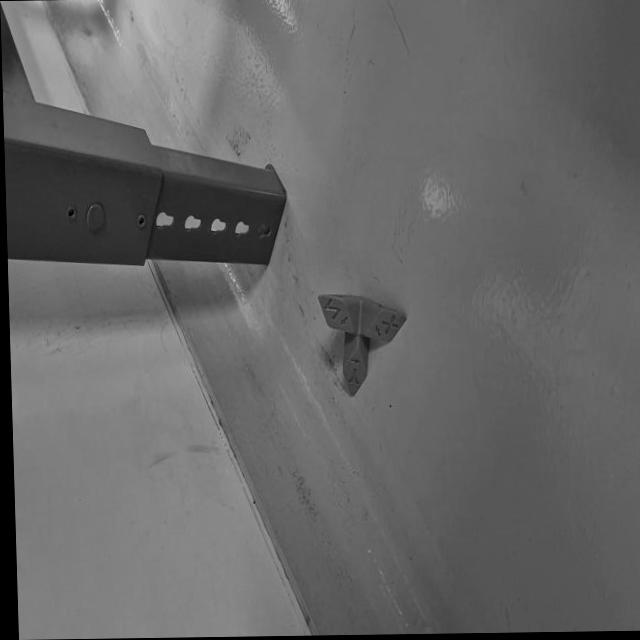eje: (312, 272, 415, 407)
